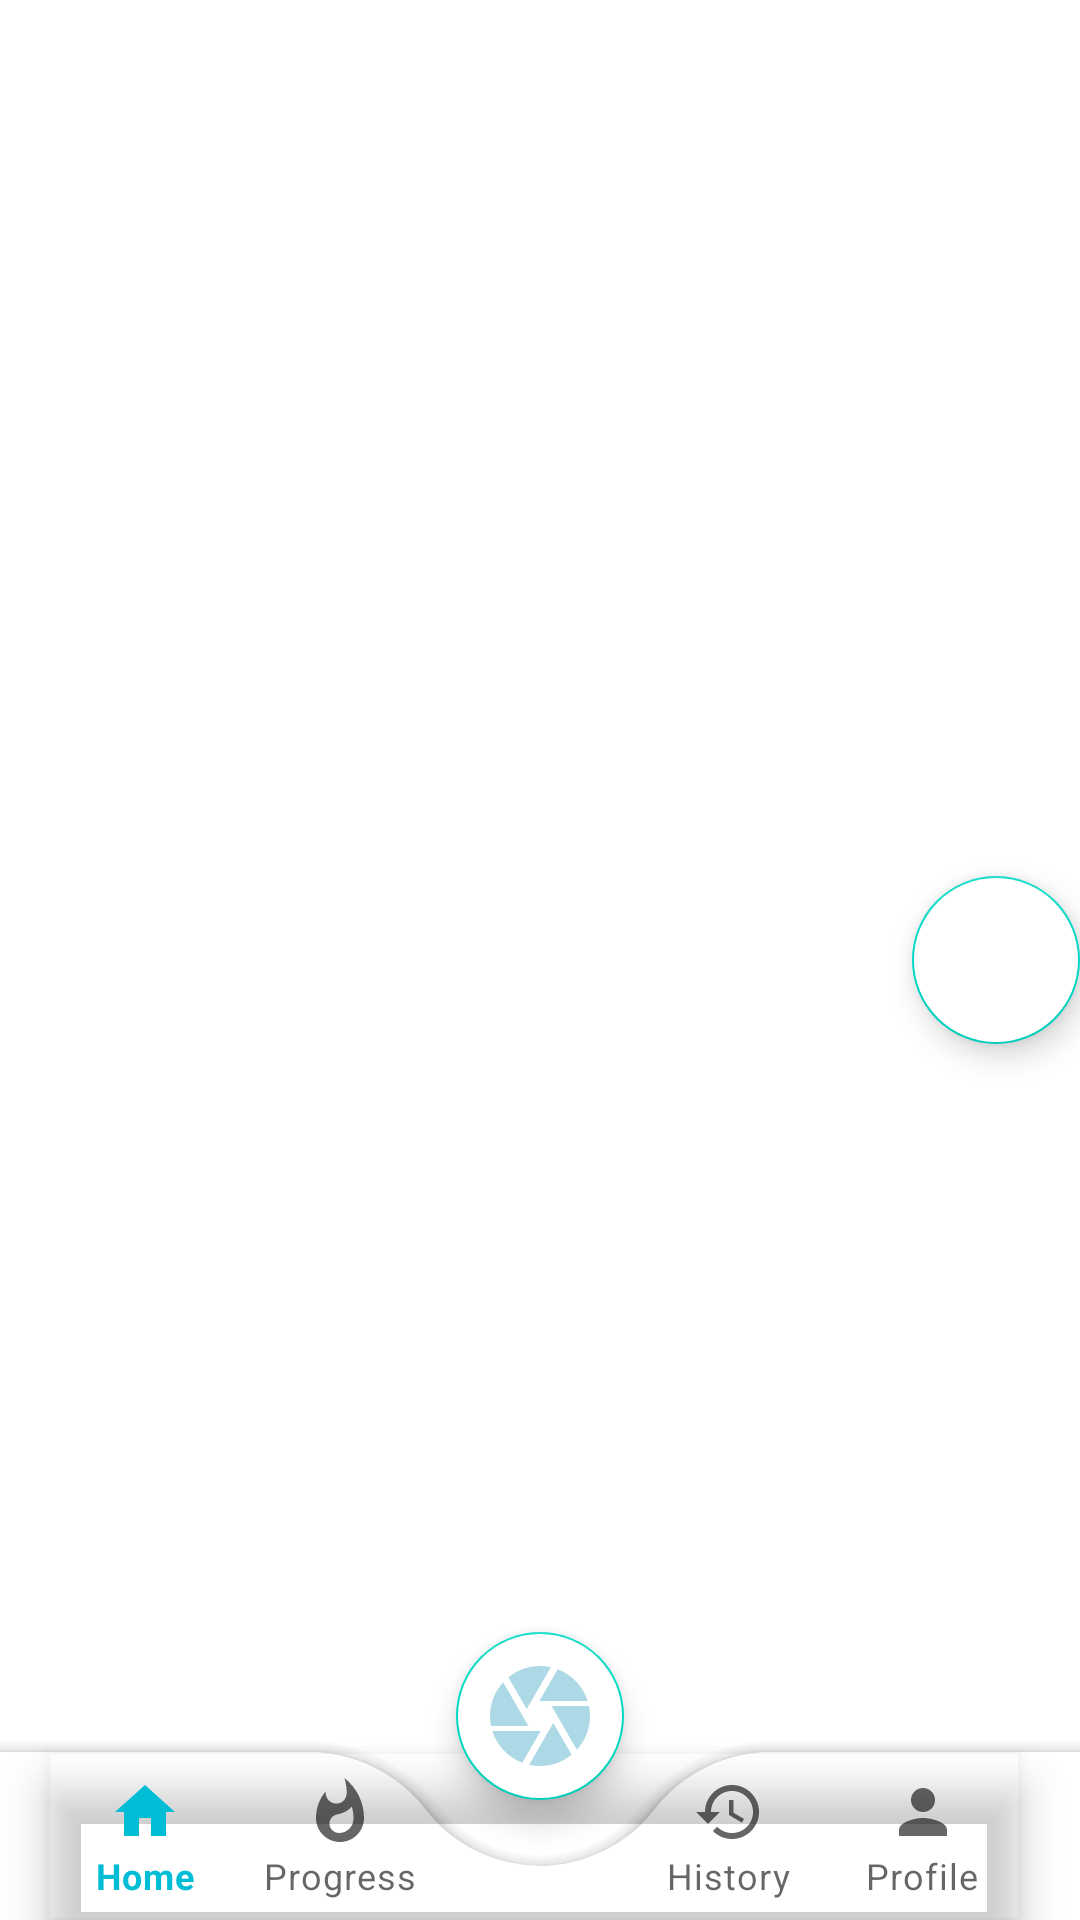

Icons on this 1080*1920 Android screen, each with the point to tap as (x=x, y=y):
camera: (x=540, y=1743)
